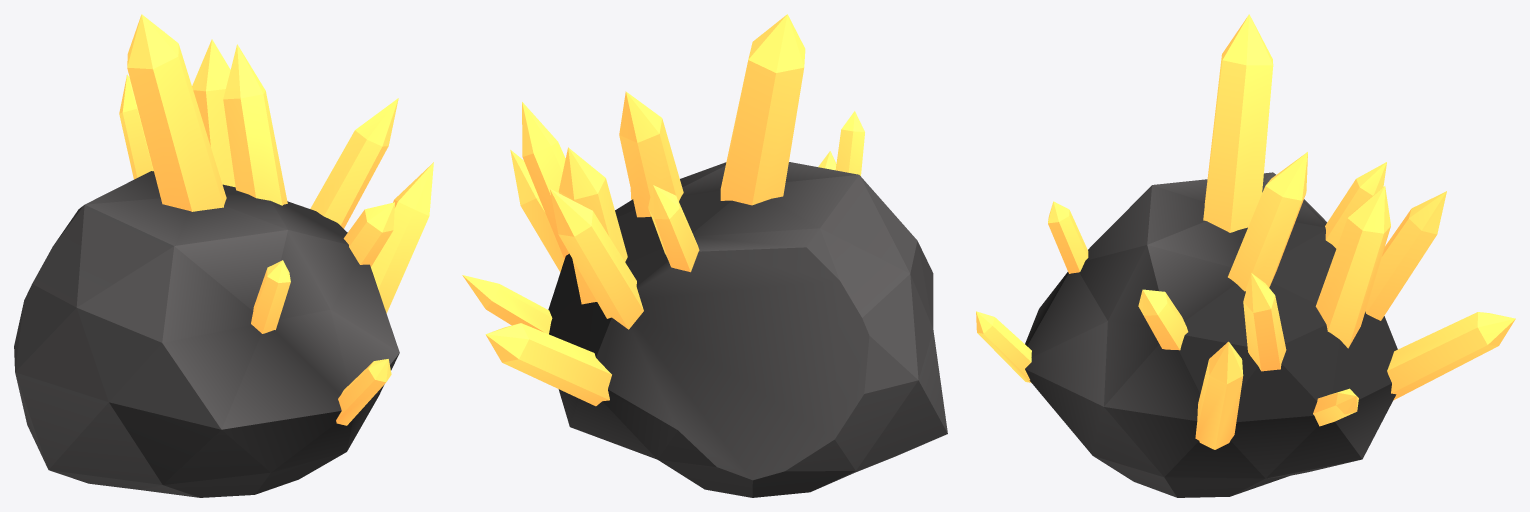
The model's file is obj_cristal_grande_3.glb.
The picture shows the model from 3 angles, left to right: view 1: azimuth 30°, elevation 25°; view 2: azimuth 150°, elevation 25°; view 3: azimuth 270°, elevation 25°; orthographic projection. The views are drawn at different scales.
Visible parts, largest first — view 1: propforge-libre-cristal_grande; view 2: propforge-libre-cristal_grande; view 3: propforge-libre-cristal_grande.
Part boxes in pixels (left/top/right/bottom): propforge-libre-cristal_grande: left=14, top=14, right=433, bottom=497; propforge-libre-cristal_grande: left=462, top=14, right=947, bottom=497; propforge-libre-cristal_grande: left=976, top=14, right=1515, bottom=497.
Bounding box in the file's own units: 1.46 × 1.47 × 1.77.
